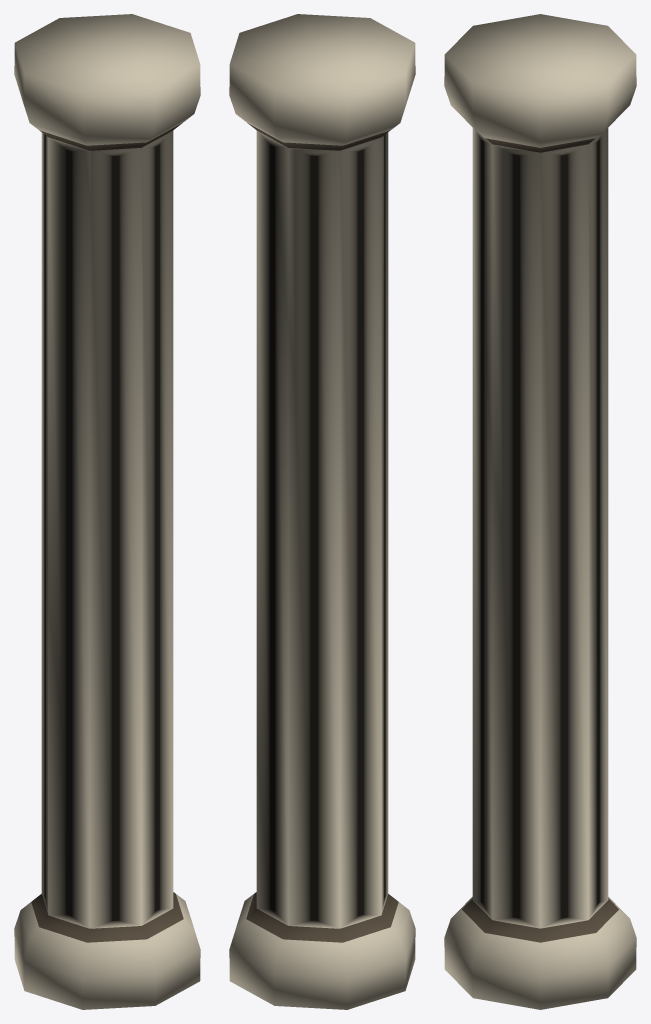
Rendered from ColunaGrega.fbx.
3 renders of one model, left to right at view 1: azimuth 30°, elevation 25°; view 2: azimuth 150°, elevation 25°; view 3: azimuth 270°, elevation 25°, orthographic.
Parts seen in each view (by area): view 1: Coluna_Grega; view 2: Coluna_Grega; view 3: Coluna_Grega.
Part boxes in pixels (<box>): Coluna_Grega: <box>14,14,200,1009</box>; Coluna_Grega: <box>229,14,415,1009</box>; Coluna_Grega: <box>444,14,636,1009</box>.
Size of the model in its own units: 85.53 by 449 by 85.53.
